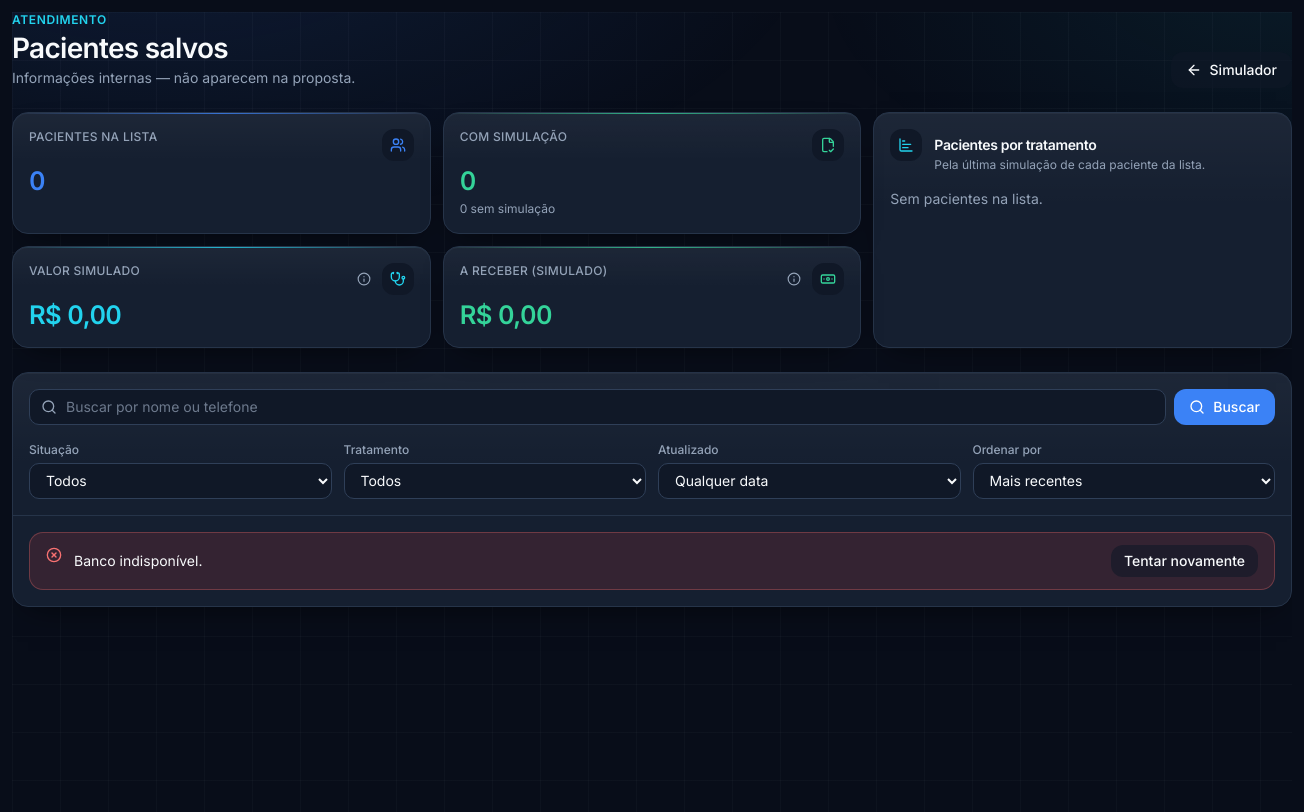
Test: PatientsPage › mostra o erro da busca e permite tentar novamente
Expected: the message shows "Banco indisponível.", [74,552,202,569]
Click the button "Tentar novamente".
click(1184, 561)  # box [1111,545,1258,577]
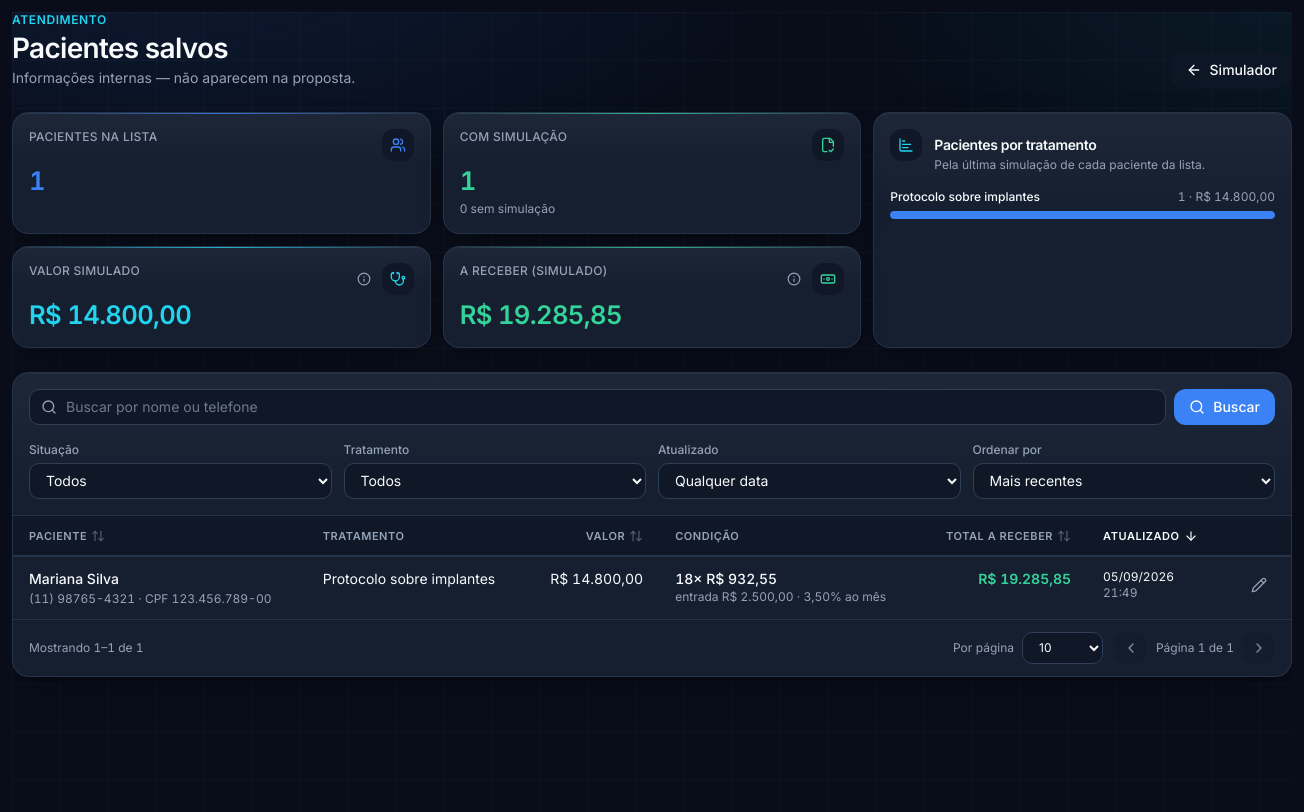
Result: the button "Mariana Silva" is shown at [29,569,119,589]
Result: the message "Banco indisponível. Tentar novamente" is gone
